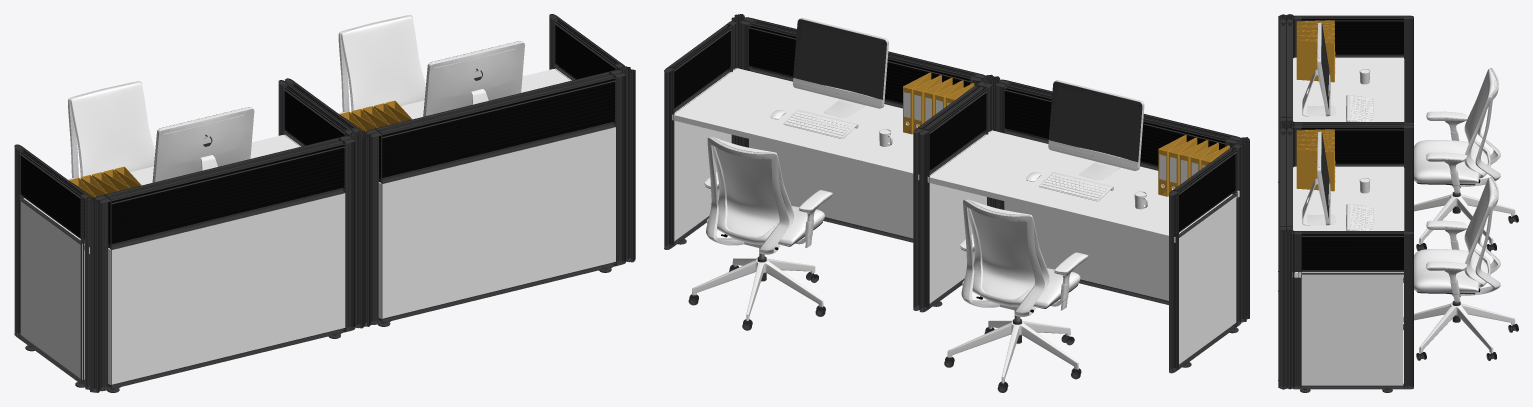
File: desk2b.glb
The picture shows the model from 3 angles, left to right: view 1: azimuth 30°, elevation 25°; view 2: azimuth 150°, elevation 25°; view 3: azimuth 270°, elevation 25°; orthographic projection. The views are drawn at different scales.
Visible parts, largest first — view 1: Obj3d66-15960713-2399-497; view 2: Obj3d66-15960713-2399-497; view 3: Obj3d66-15960713-2399-497.
Boxes of the visible parts, x1,y1,x2,y2 form: Obj3d66-15960713-2399-497: (14, 14, 635, 392); Obj3d66-15960713-2399-497: (664, 14, 1249, 392); Obj3d66-15960713-2399-497: (1278, 14, 1518, 392).
Bounding box in the file's own units: 2.44 × 0.975 × 1.13.
